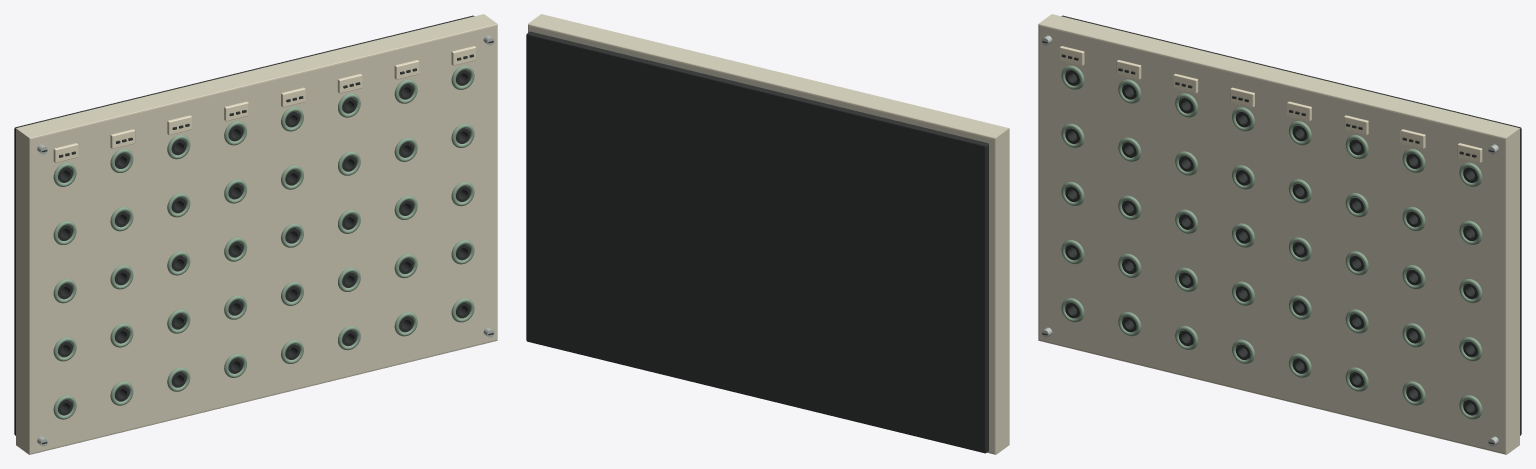
Rendered from abandoned-telephone-exchange-subscriber-jack-panel-4262f872__31983.glb.
The picture shows the model from 3 angles, left to right: view 1: azimuth 30°, elevation 25°; view 2: azimuth 150°, elevation 25°; view 3: azimuth 330°, elevation 25°; orthographic projection.
Visible parts, largest first — view 1: subscriber-jack-panel; view 2: subscriber-jack-panel; view 3: subscriber-jack-panel.
Boxes of the visible parts, x1,y1,x2,y2 form: subscriber-jack-panel: (14, 14, 497, 454); subscriber-jack-panel: (526, 14, 1009, 454); subscriber-jack-panel: (1038, 14, 1521, 454).
Size of the model in its own units: 0.906 by 0.586 by 0.0815.
